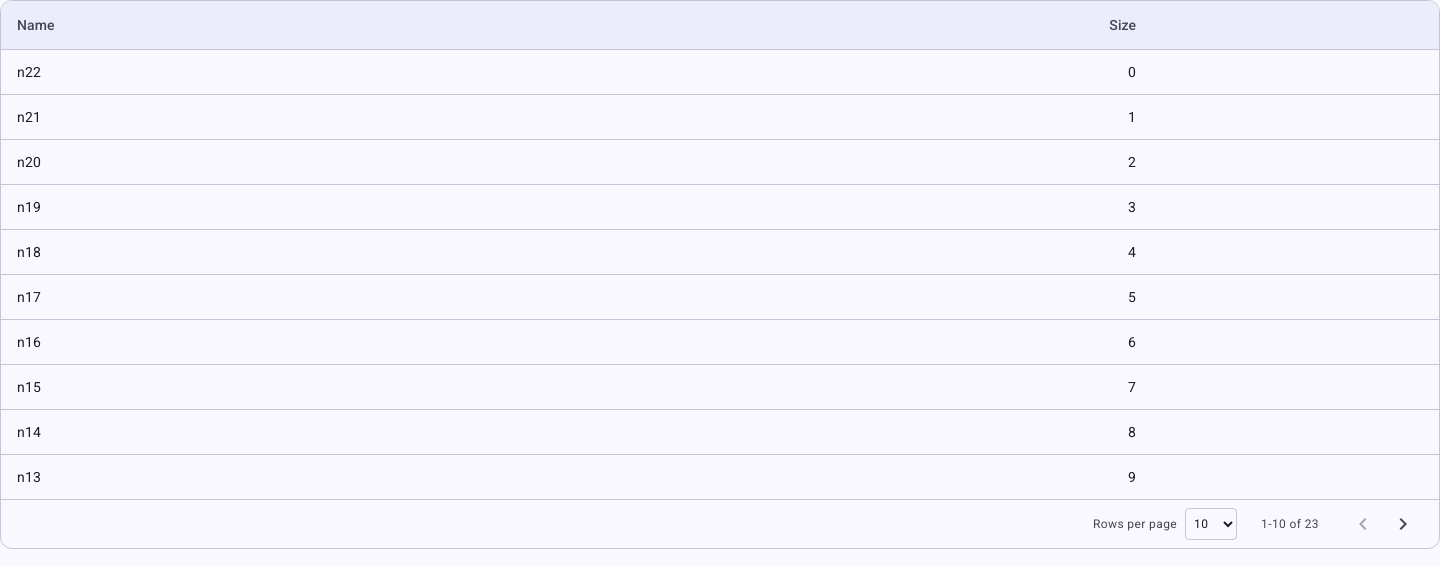
Scenario: M3DataTable › disables previous on the first page and next on the last
Check: the button named "Previous page" is disabled, box [1343,504,1383,544]
Step 1. Click the button named "Next page" → (1403,524), box [1383,504,1423,544]
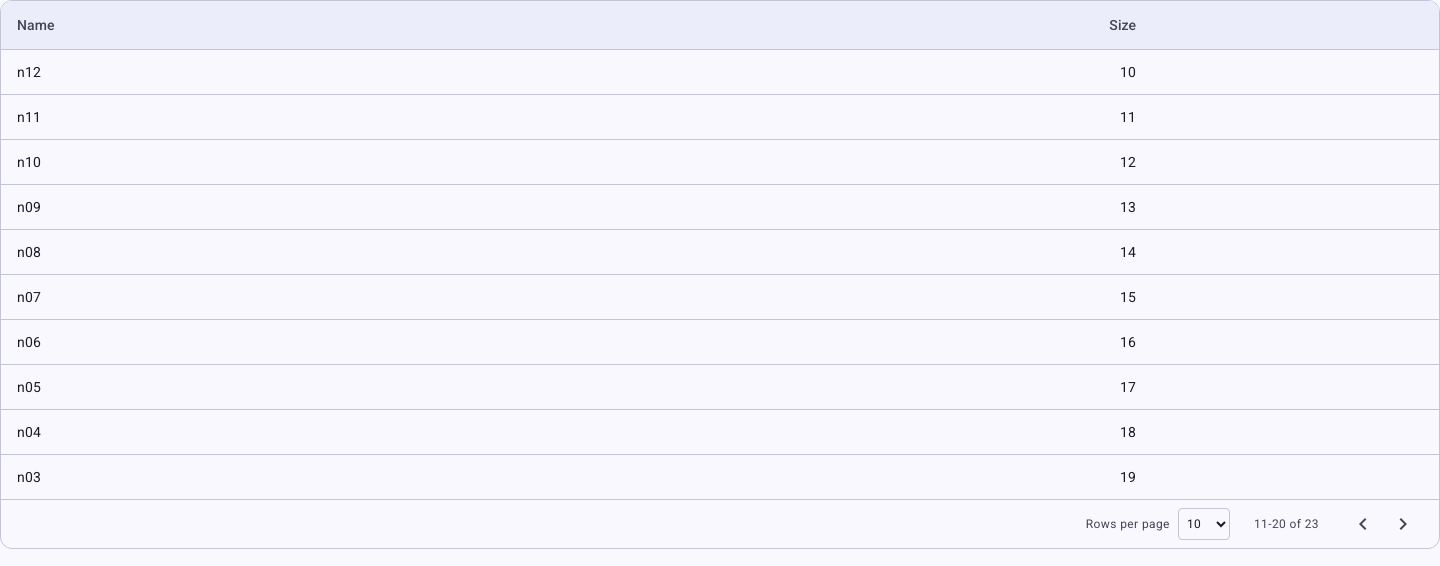
Step 2. Click the button named "Next page" → (1403,524), box [1383,504,1423,544]
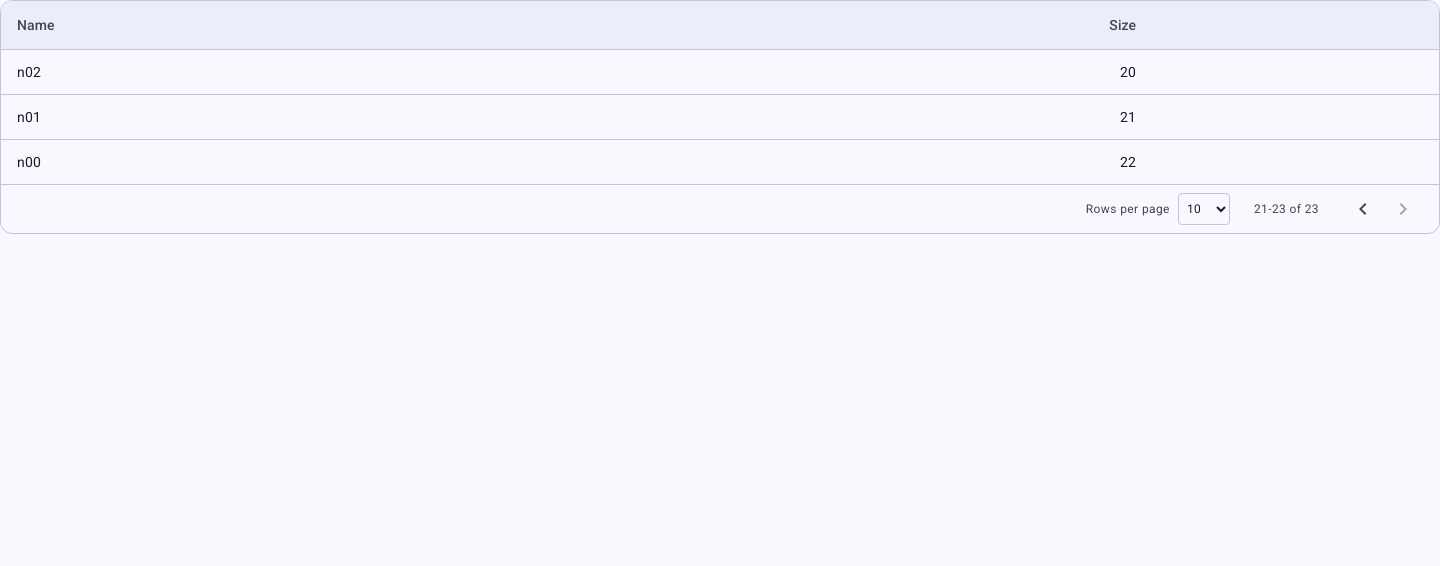
Check: the text "21-23 of 23" is shown, box [1254,200,1319,216]
Check: the button named "Next page" is disabled, box [1383,188,1423,228]
